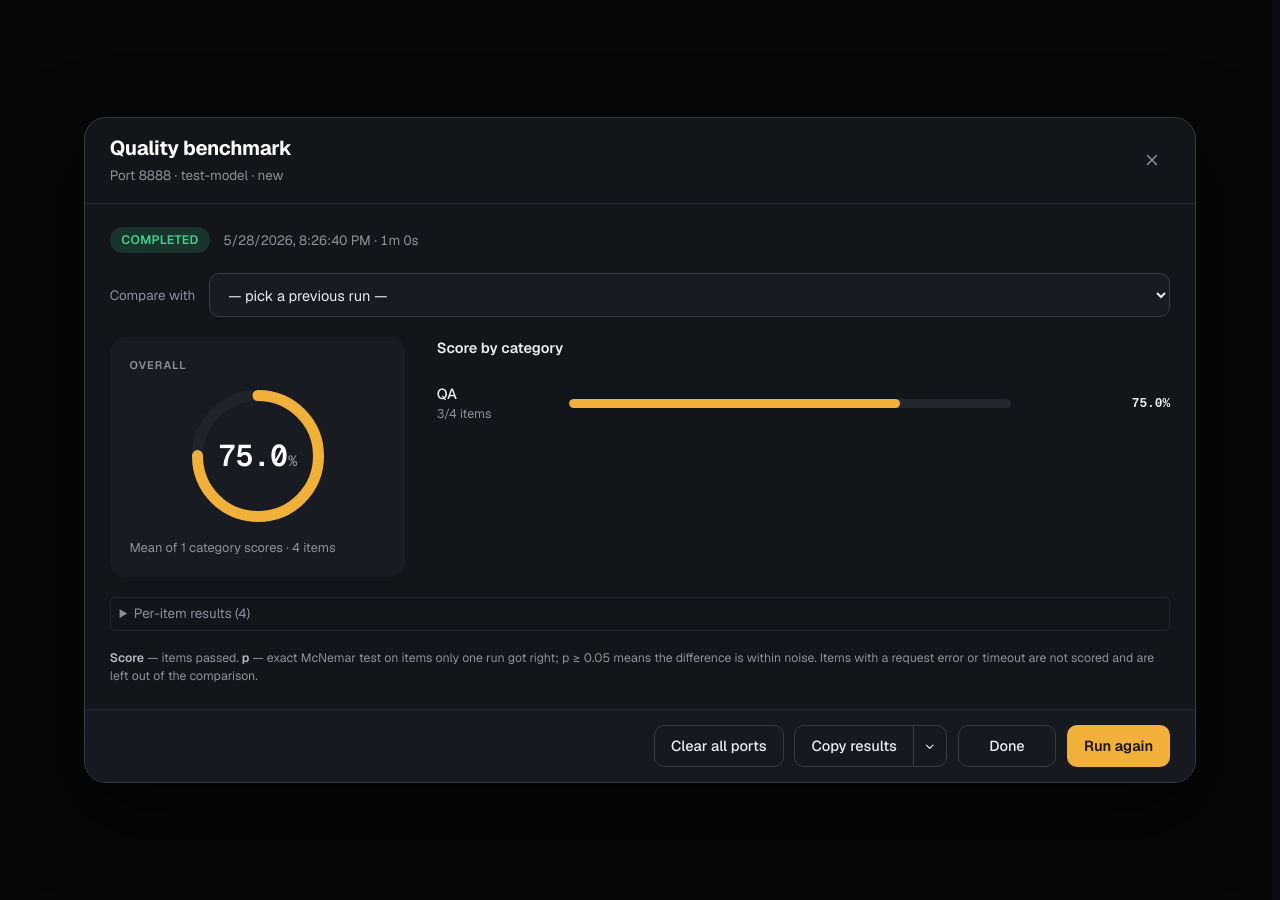
QualityBenchDialog › refuses to compare runs scored by different rules
Select "May 28, 08:26 PM · old · test-model · port 8888 · 75.0%" in the dropdown labelled "Compare with": [690, 295] box [209, 273, 1170, 317]
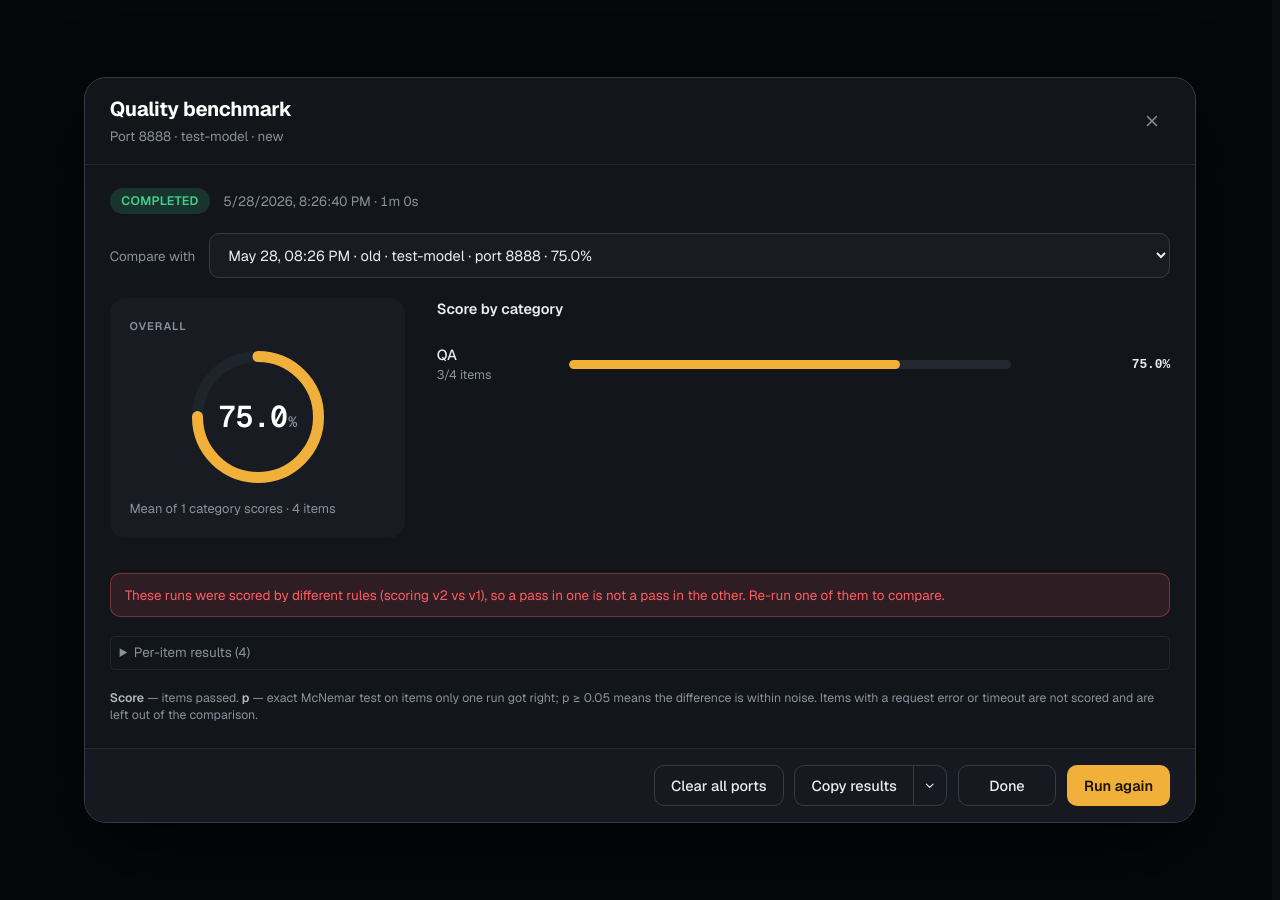
Check: the dialog shows "scored by different rules", box [125, 586, 944, 604]
